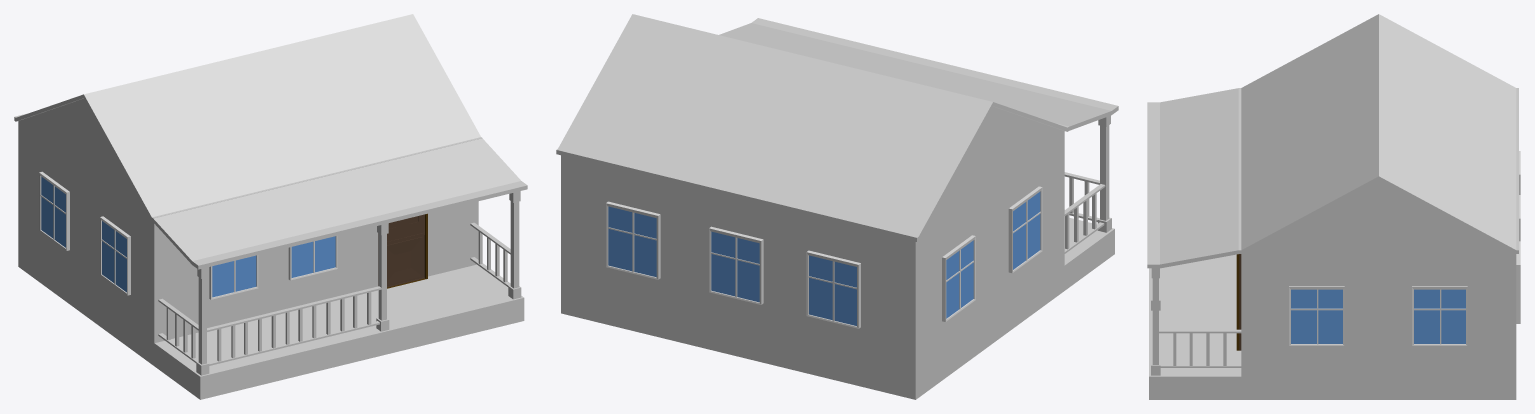
File: house1.fbx
The picture shows the model from 3 angles, left to right: view 1: azimuth 30°, elevation 25°; view 2: azimuth 150°, elevation 25°; view 3: azimuth 270°, elevation 25°; orthographic projection. The views are drawn at different scales.
Parts seen in each view (by area): view 1: Cube, Cube.005, Cube.007, Cube.036, Cube.037, Cube.001, Cube.065, Cube.004, Cube.008, Cube.006; view 2: Cube, Cube.005, Cube.033, Cube.034, Cube.035, Cube.037, Cube.036; view 3: Cube, Cube.005, Cube.002, Cube.003, Cube.007, Cube.029, Cube.033.
Boxes of the visible parts, x1,y1,x2,y2 form: Cube: (14,14,524,399); Cube.005: (153,138,527,375); Cube.007: (378,213,427,288); Cube.036: (39,171,69,250); Cube.037: (100,216,130,295); Cube.001: (209,255,258,299); Cube.065: (288,235,337,280); Cube.004: (376,223,389,331); Cube.008: (207,286,381,331); Cube.006: (208,321,379,365); Cube: (556,14,1114,399); Cube.005: (719,18,1118,232); Cube.033: (606,201,660,279); Cube.034: (709,226,763,304); Cube.035: (806,250,860,328); Cube.037: (1008,186,1042,273); Cube.036: (942,235,975,321); Cube: (1149,14,1518,399); Cube.005: (1147,88,1238,375); Cube.002: (1412,286,1467,345); Cube.003: (1289,286,1344,345); Cube.007: (1236,254,1241,350); Cube.029: (1159,329,1241,333); Cube.033: (1516,241,1520,323).
Bounding box in the file's own units: 504 × 325 × 488.
